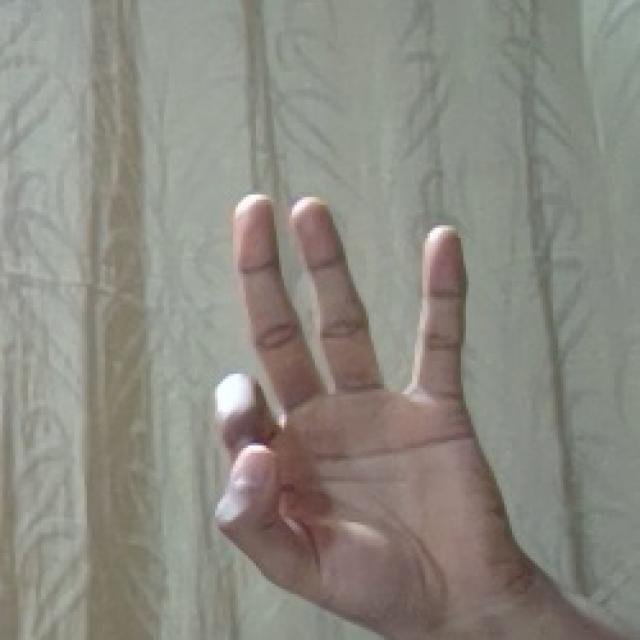Numeric-9: (206, 178, 498, 614)
